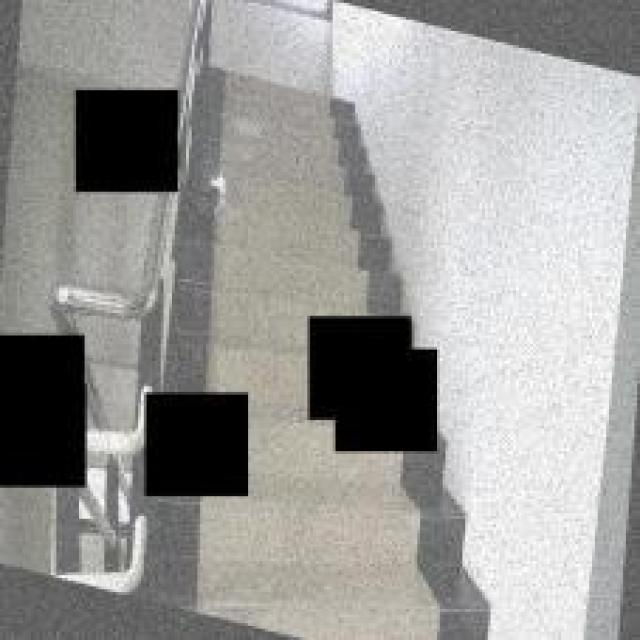upstair: (210, 75, 382, 295)
